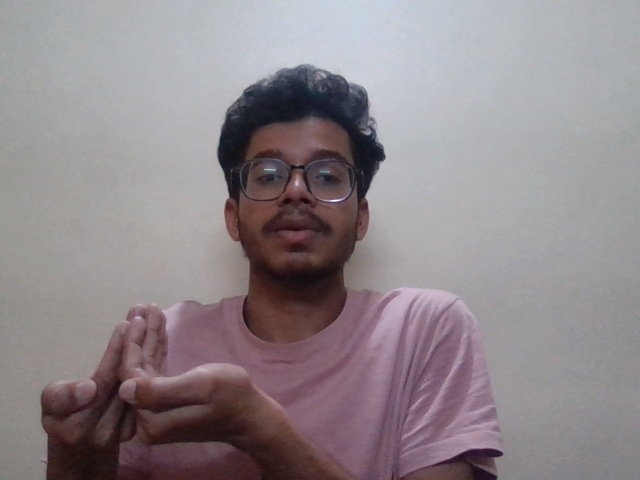tomorrow: (32, 307, 288, 447)
